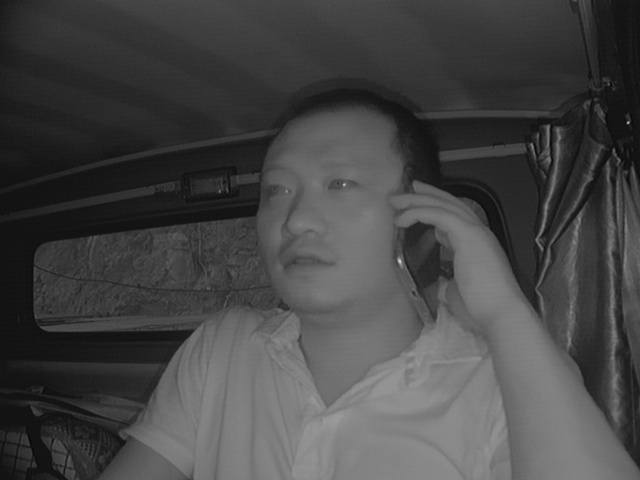hand: (391, 178, 510, 328)
